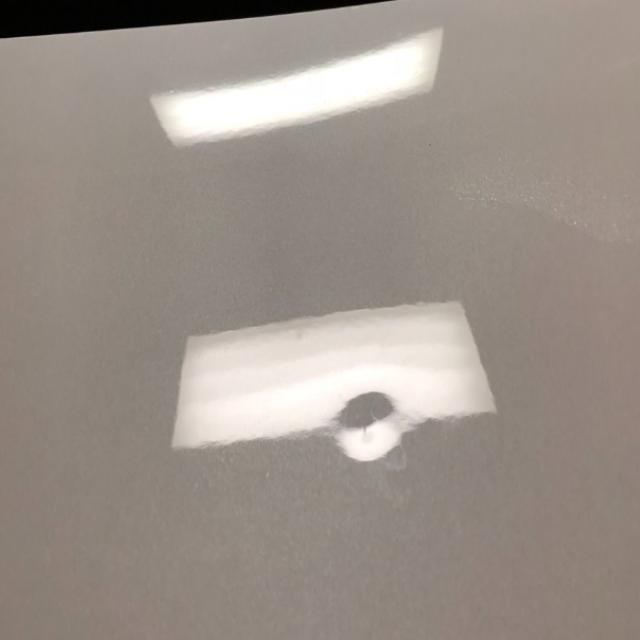dents: (327, 379, 408, 482)
